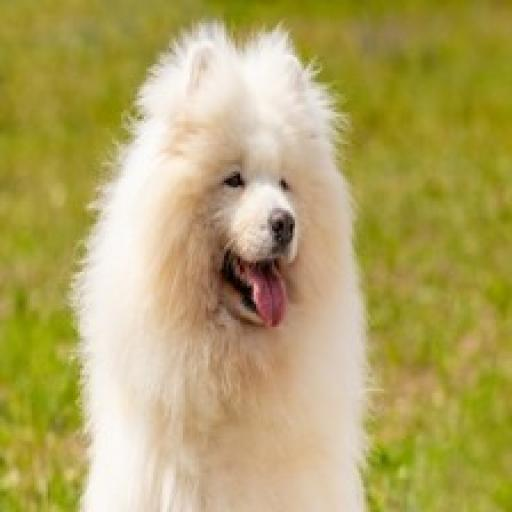dog: (64, 16, 373, 512)
